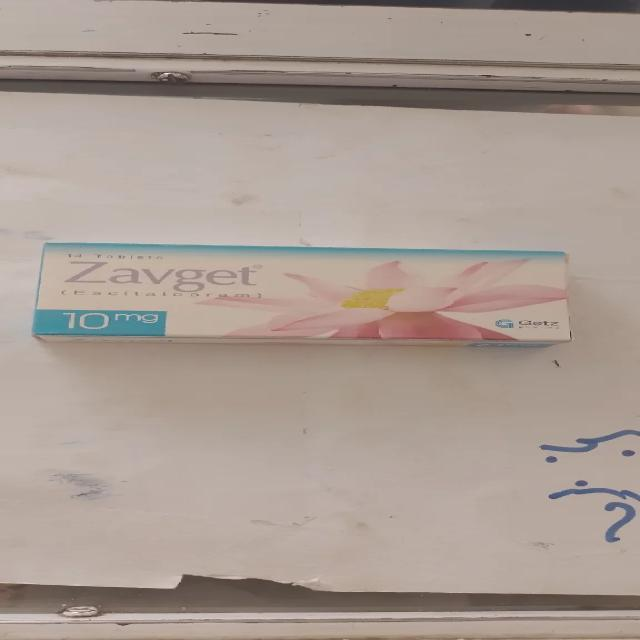drug-name: (64, 260, 264, 294)
